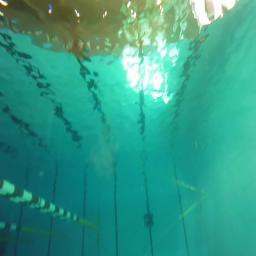Full: (143, 218, 155, 226)
